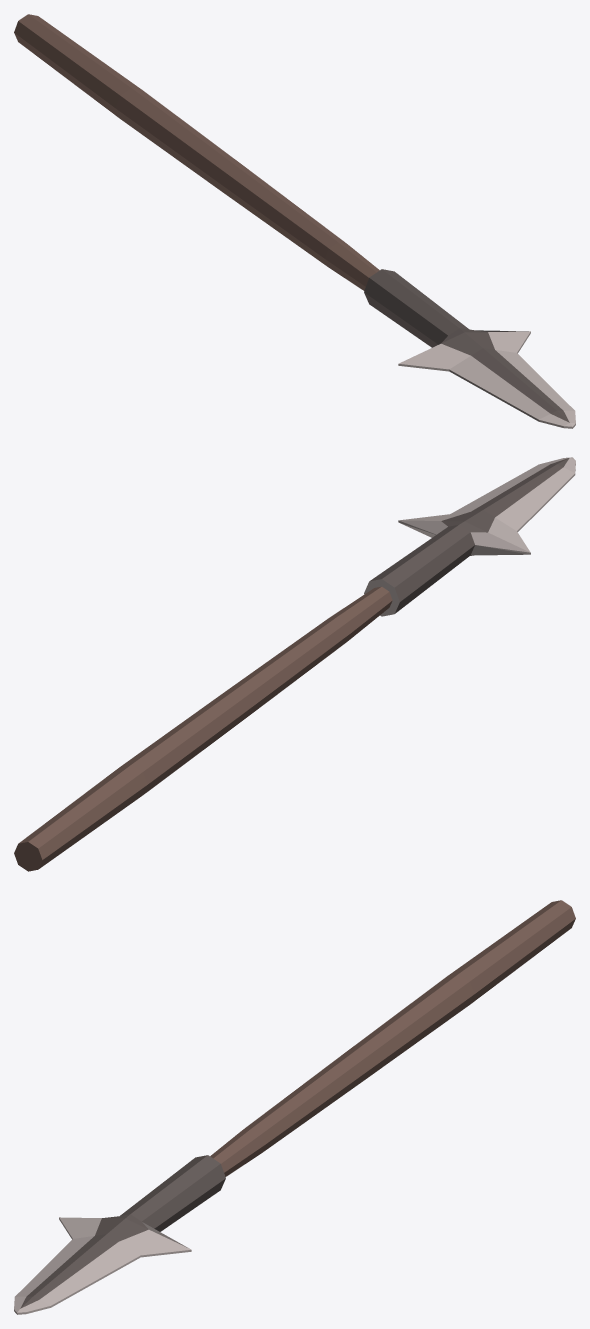
The model's file is spear.fbx.
The picture shows the model from 3 angles, top to bottom: view 1: azimuth 30°, elevation 25°; view 2: azimuth 150°, elevation 25°; view 3: azimuth 330°, elevation 25°; orthographic projection.
Parts seen in each view (by area): view 1: Spear; view 2: Spear; view 3: Spear.
Boxes of the visible parts, x1,y1,x2,y2 form: Spear: (14, 14, 575, 428); Spear: (14, 457, 575, 871); Spear: (14, 900, 575, 1314).
Size of the model in its own units: 47.16 by 12.79 by 336.
